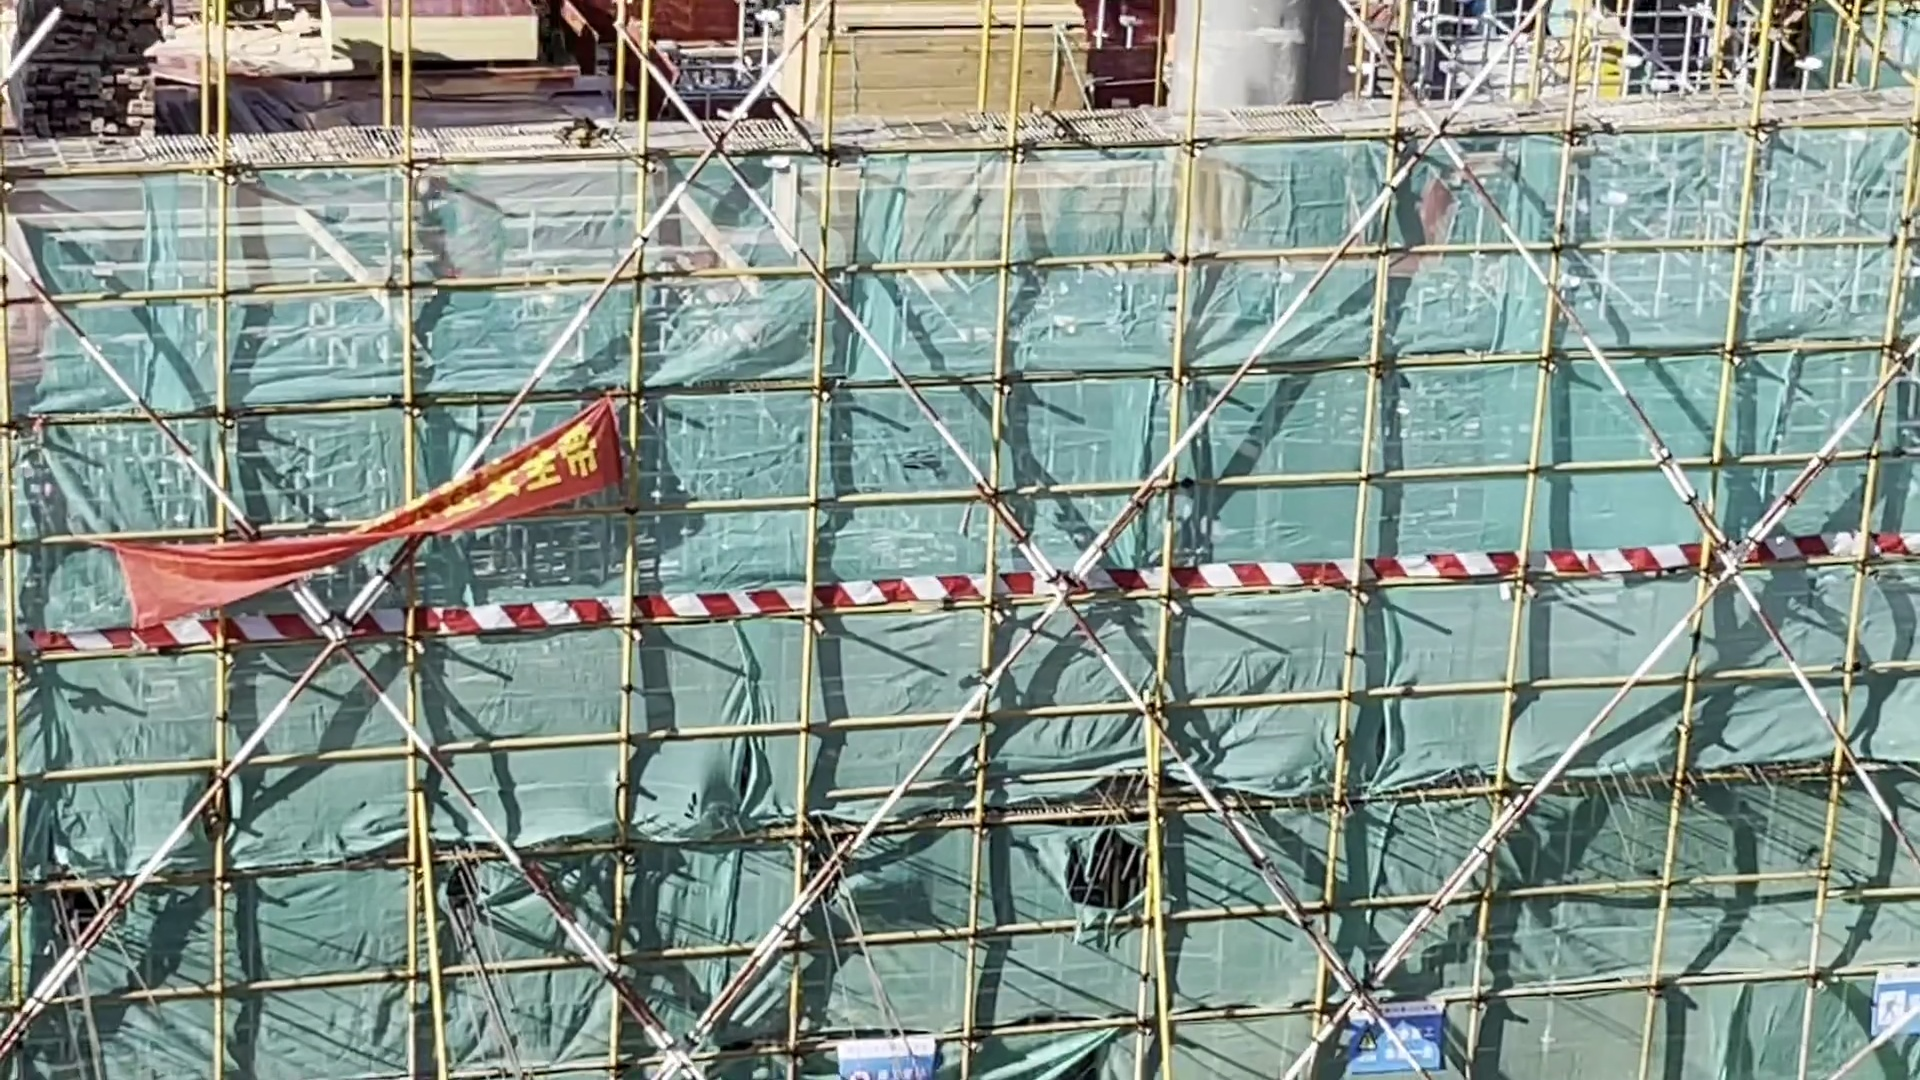slogan: (95, 376, 657, 630), (1320, 977, 1447, 1076), (828, 1019, 949, 1080), (1840, 945, 1920, 1036)
wood: (767, 11, 1100, 141)
